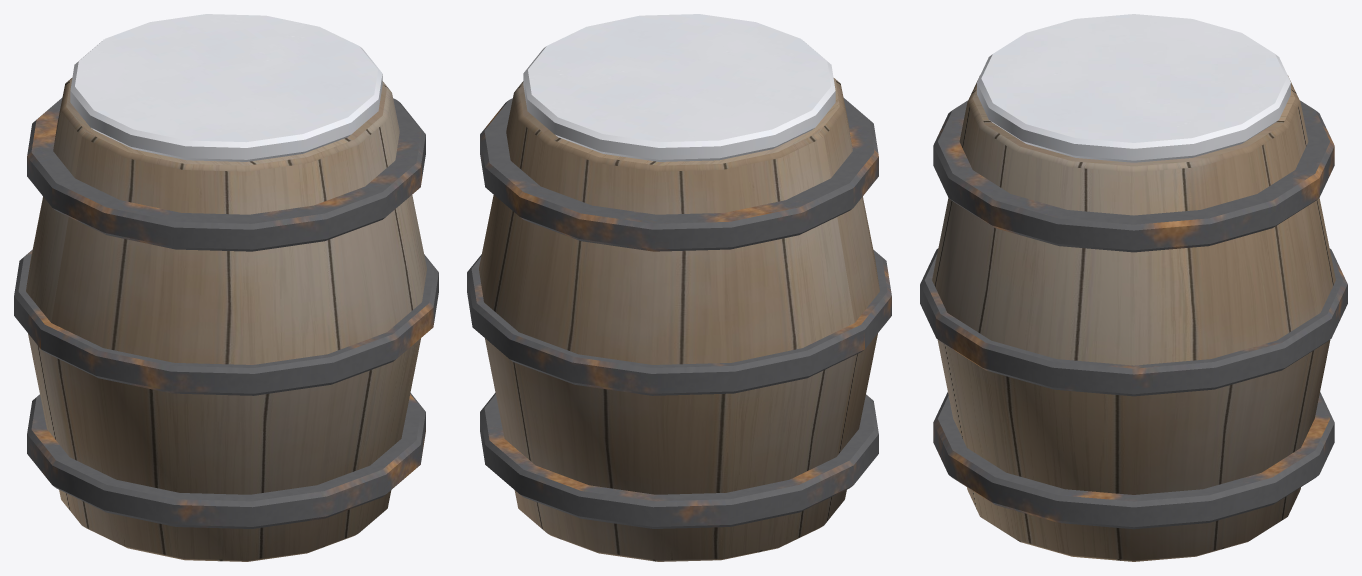
Rendered from barrel.glb.
3 views of the same model, side by side, from view 1: azimuth 30°, elevation 25°; view 2: azimuth 150°, elevation 25°; view 3: azimuth 270°, elevation 25° (orthographic).
Visible parts, largest first — view 1: barrel; view 2: barrel; view 3: barrel.
Part boxes in pixels (x1=…): barrel: x1=14, y1=14, x2=438, y2=561; barrel: x1=467, y1=14, x2=891, y2=561; barrel: x1=920, y1=14, x2=1347, y2=561.
Size of what is drawn, in the model's own units: 0.98 by 1.05 by 0.98.
3 materials, 3 textured.
